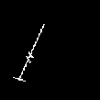treble_crochet: (13, 24, 43, 79)
